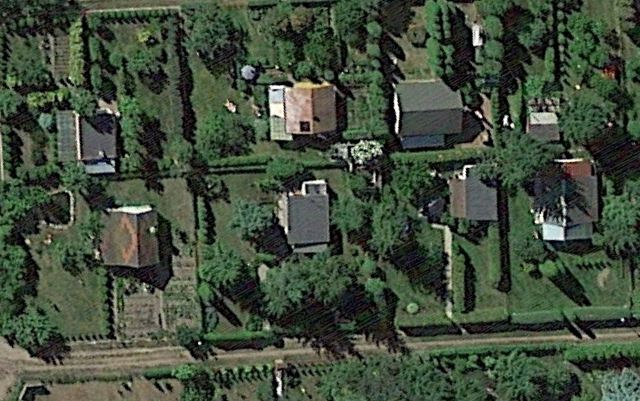family house: (393, 71, 473, 146), (536, 152, 602, 242), (53, 97, 123, 178), (268, 75, 343, 142), (91, 201, 162, 271), (448, 155, 509, 227), (281, 174, 332, 259), (524, 106, 567, 148)
